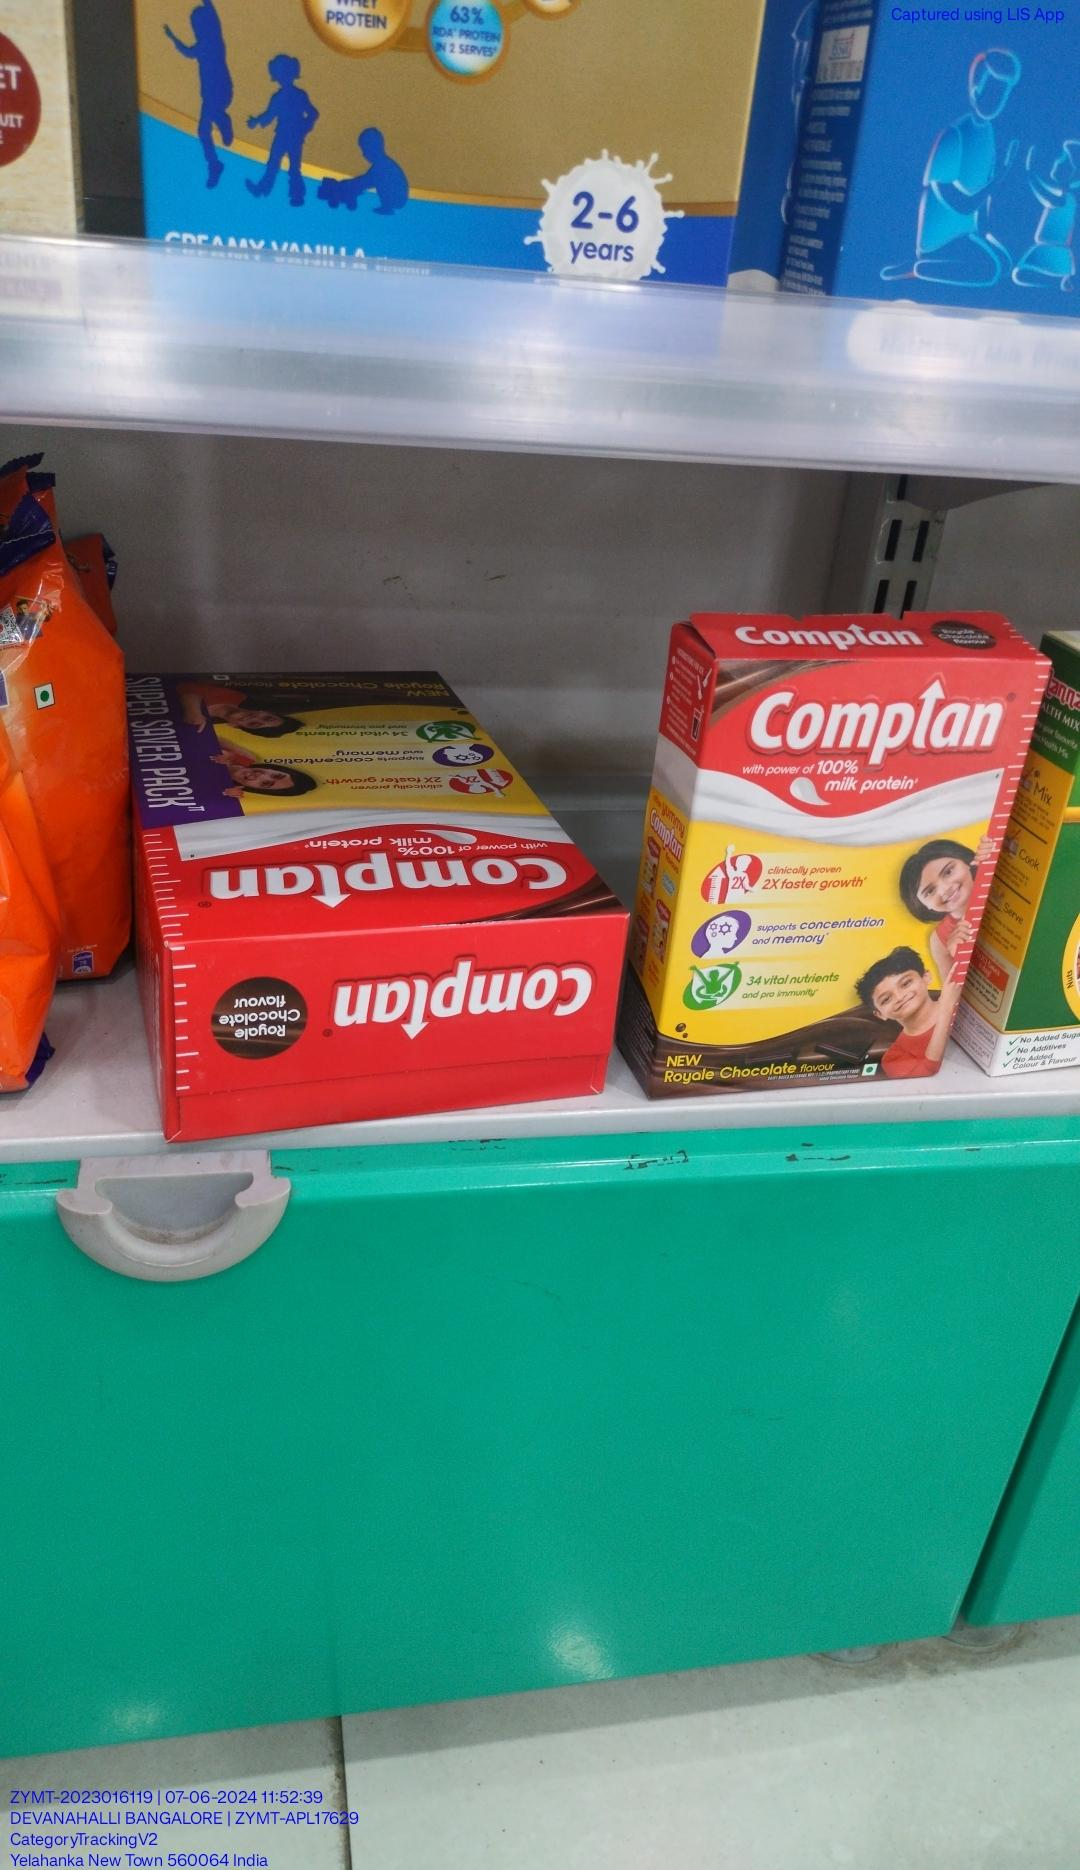COMPLAN_CHOCOLATE_200_GMS_PACK: (657, 643, 1004, 1089)
